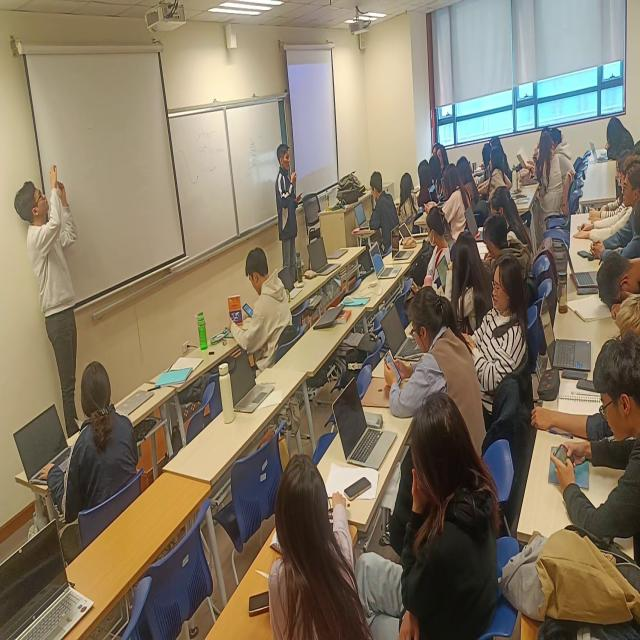raise_head: (391, 402, 501, 619), (262, 458, 355, 633), (484, 255, 539, 371), (620, 158, 640, 217), (489, 145, 507, 182)
sleep: (592, 235, 640, 326)
stand: (19, 164, 87, 437), (275, 143, 302, 271)
using_computer: (372, 209, 452, 285), (356, 174, 402, 244)
using_phone: (545, 347, 640, 542), (380, 300, 485, 408), (239, 237, 295, 358)
